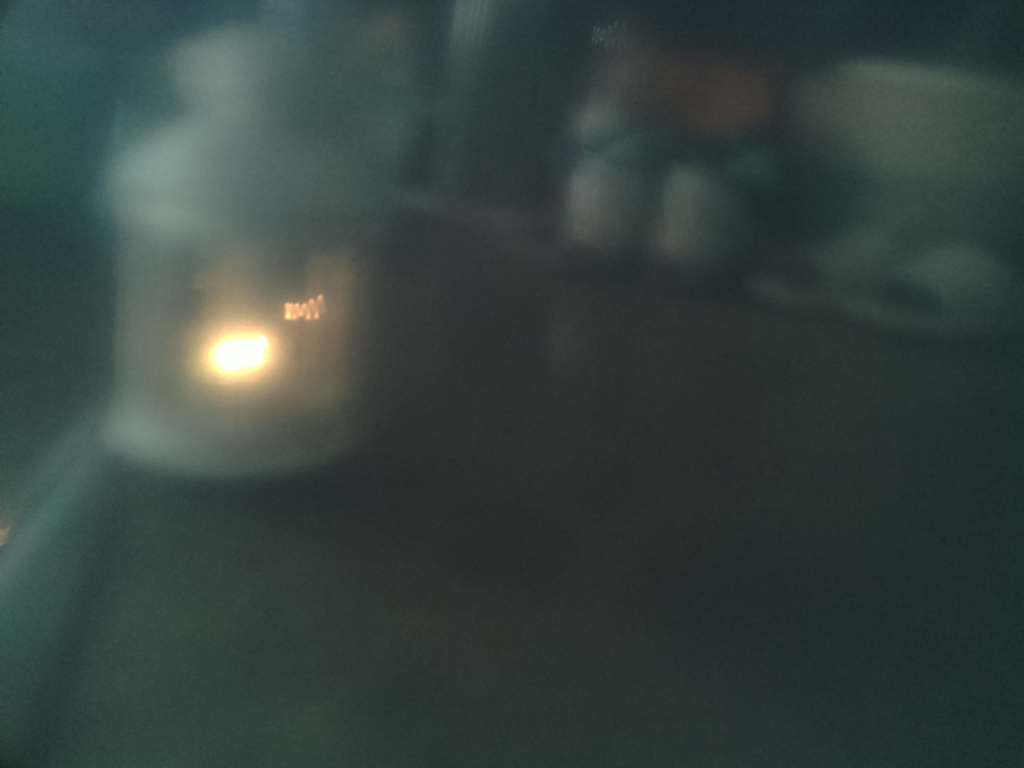fire: (197, 287, 330, 427)
